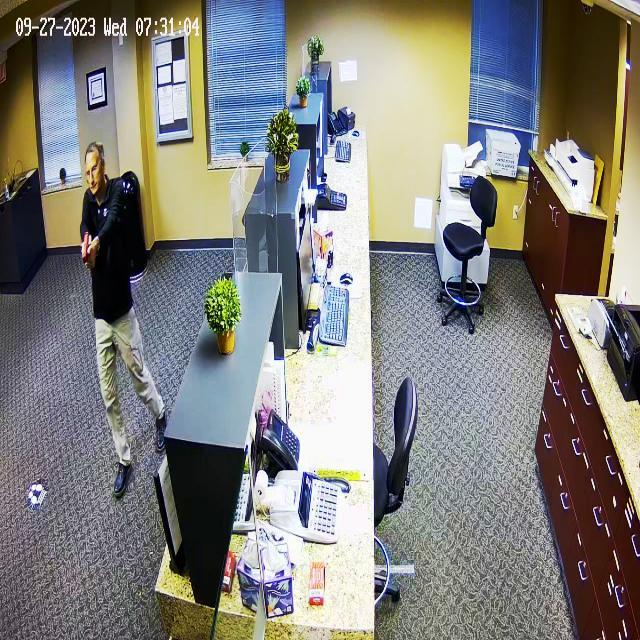Gun: (72, 228, 100, 265)
